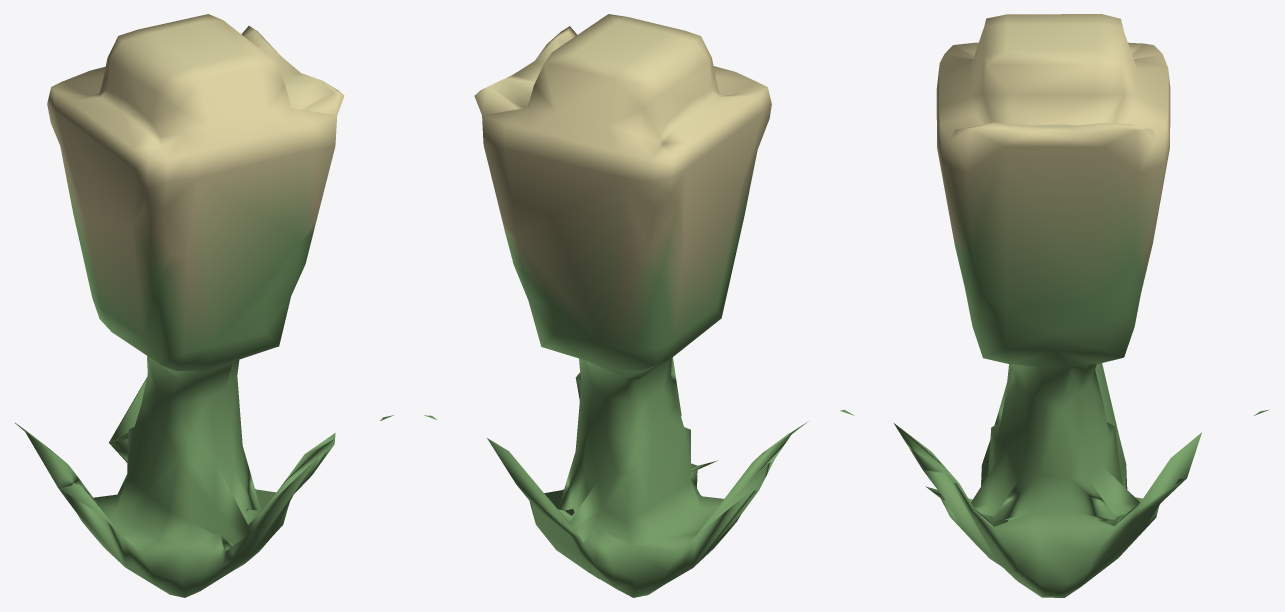
File: flower_yellow.glb
3 renders of one model, left to right at view 1: azimuth 30°, elevation 25°; view 2: azimuth 150°, elevation 25°; view 3: azimuth 270°, elevation 25°, orthographic. The views are drawn at different scales.
Visible parts, largest first — view 1: flower_yellowA; view 2: flower_yellowA; view 3: flower_yellowA.
Boxes of the visible parts, x1,y1,x2,y2 form: flower_yellowA: (15,14,394,597); flower_yellowA: (424,14,808,597); flower_yellowA: (840,14,1269,597).
Size of the model in its own units: 0.1036 by 0.1927 by 0.1396.
